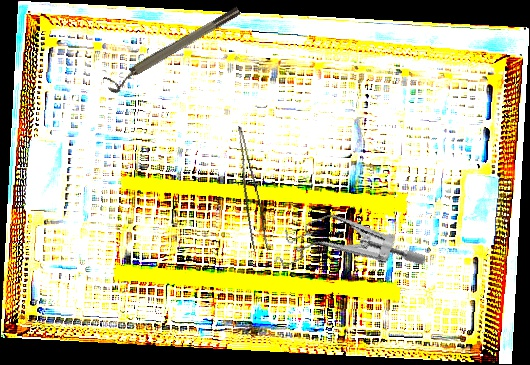Fixation Ring: (102, 4, 246, 96)
Speculum: (264, 184, 428, 316)
Tissue Forceps: (223, 125, 273, 255)
